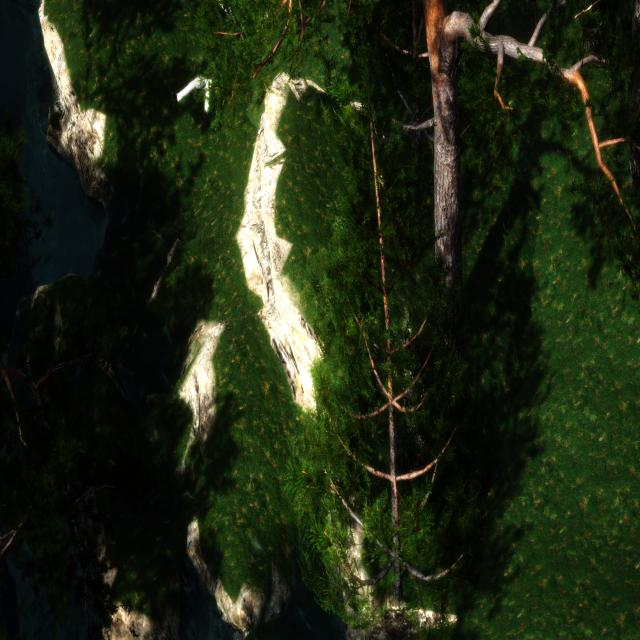Human: (171, 38, 226, 125)
